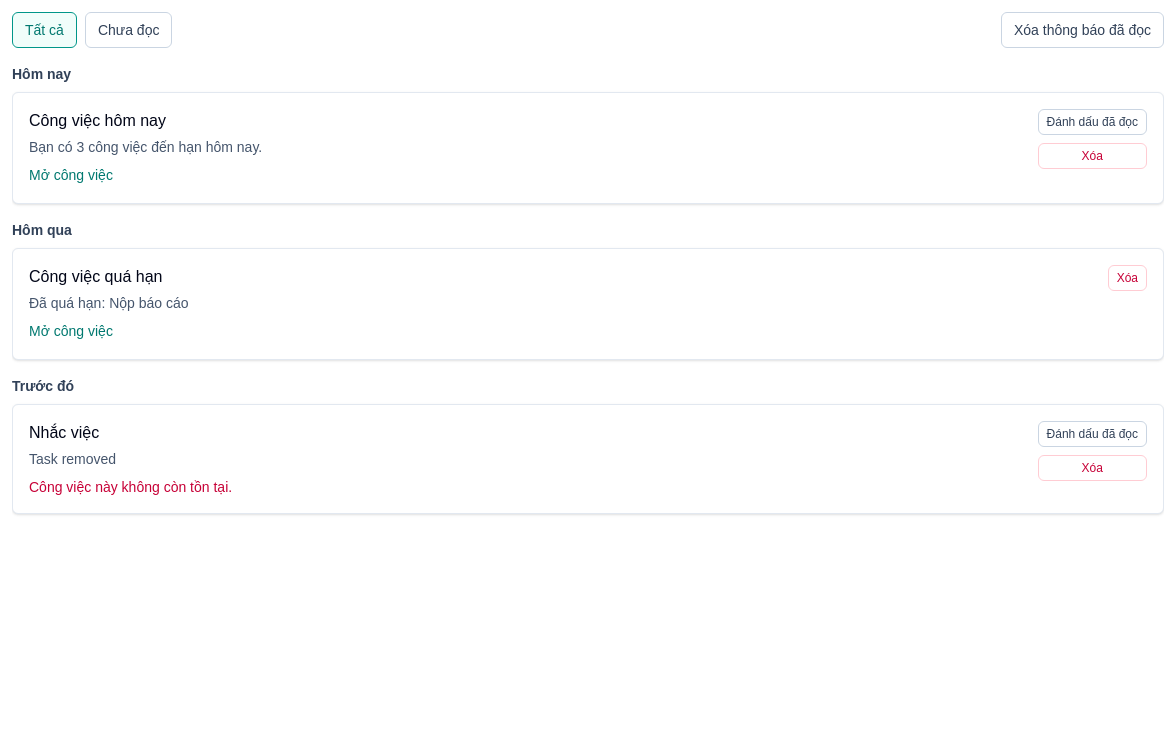
Test: NotificationList › groups notifications and filters unread items
The image size is (1176, 732).
Expected: the heading "Hôm nay" is shown, [12,66,71,82]
Expected: the heading "Hôm qua" is shown, [12,222,72,238]
Click the button "Chưa đọc" at [129, 30], box [85,12,172,48]
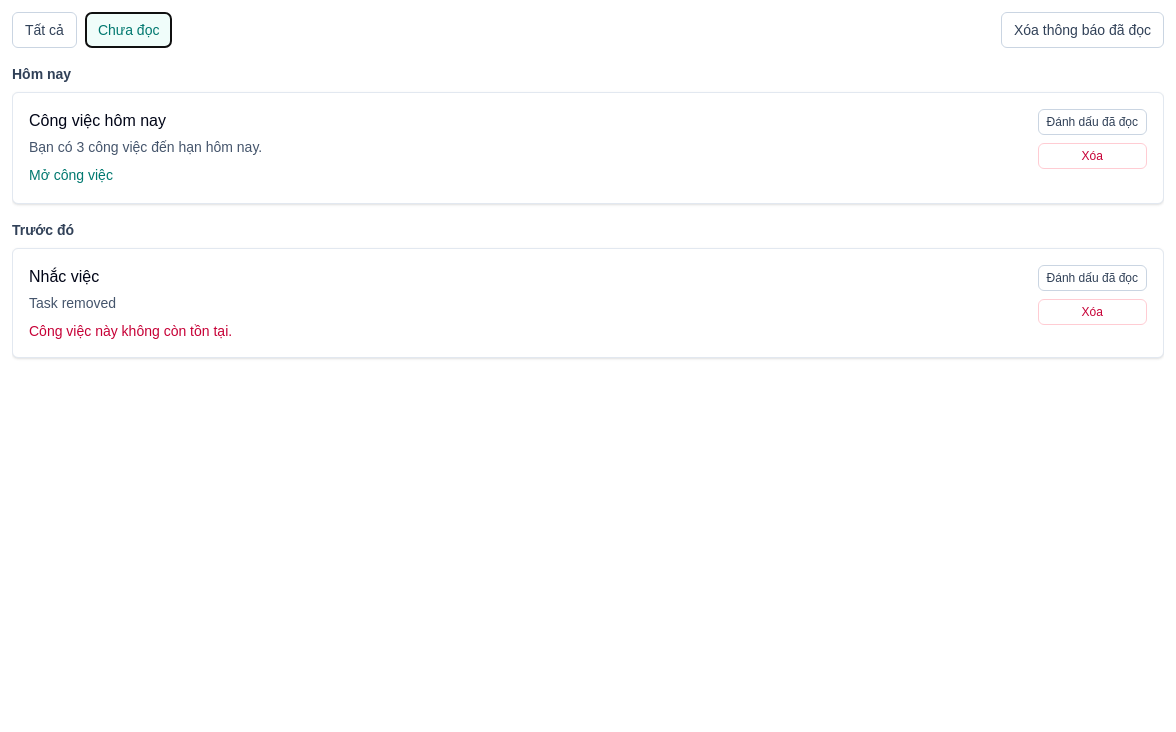
Expected: the text "Công việc hôm nay" is shown, [29,112,166,129]
Now the text "Công việc quá hạn" is gone
